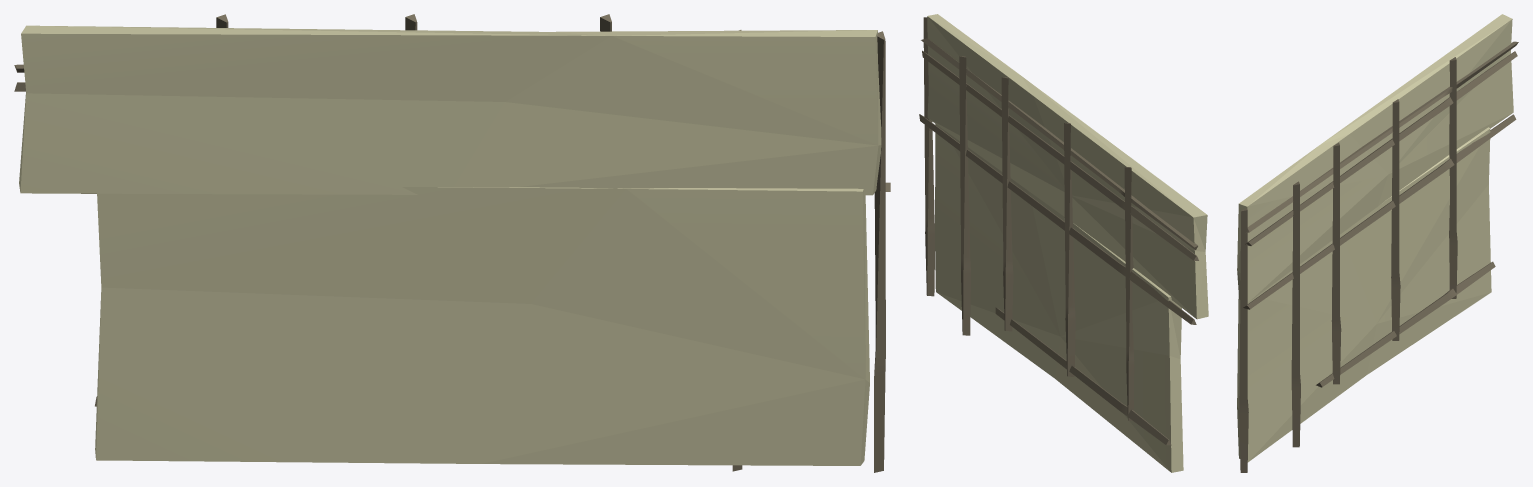
File: RedMainRightWall.fbx
The picture shows the model from 3 angles, left to right: view 1: azimuth 30°, elevation 25°; view 2: azimuth 150°, elevation 25°; view 3: azimuth 270°, elevation 25°; orthographic projection. The views are drawn at different scales.
Visible parts, largest first — view 1: RedMainRightWall_Merged; view 2: RedMainRightWall_Merged; view 3: RedMainRightWall_Merged.
Boxes of the visible parts, bbox=[...] form: RedMainRightWall_Merged: bbox=[14, 14, 890, 472]; RedMainRightWall_Merged: bbox=[919, 14, 1208, 472]; RedMainRightWall_Merged: bbox=[1237, 14, 1518, 472].
Size of the model in its own units: 1274 by 831 by 772.
